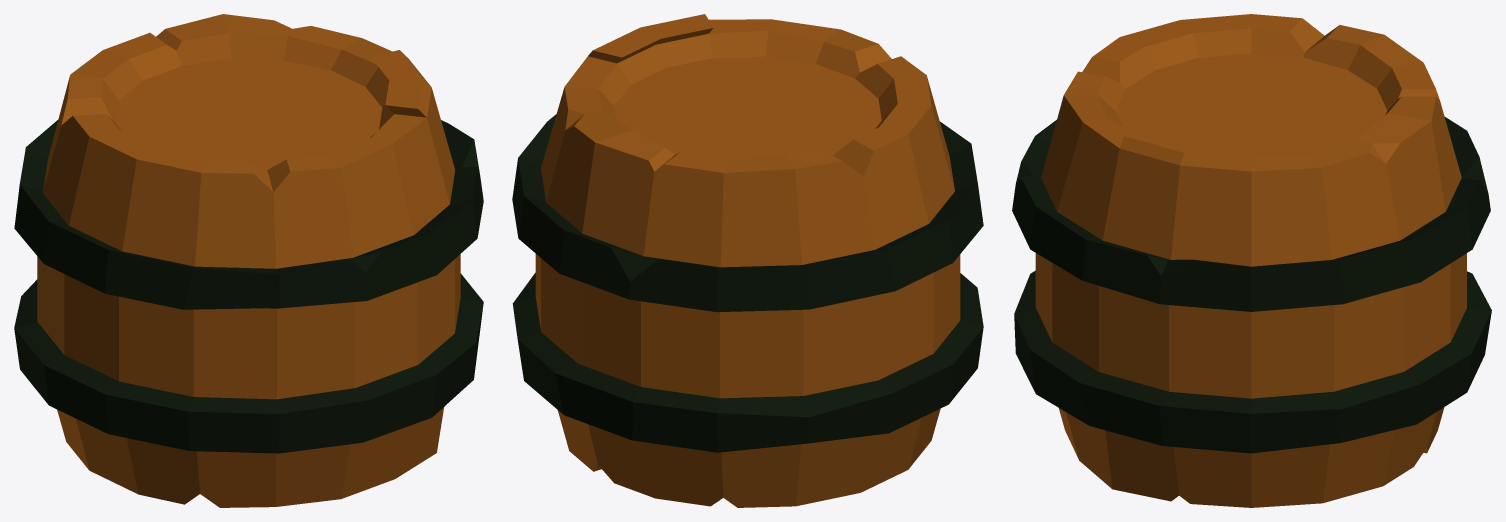
Rendered from Barrel1.fbx.
3 views of the same model, side by side, from view 1: azimuth 30°, elevation 25°; view 2: azimuth 150°, elevation 25°; view 3: azimuth 270°, elevation 25° (orthographic).
Parts seen in each view (by area): view 1: Barrel1; view 2: Barrel1; view 3: Barrel1.
Part boxes in pixels (x1,y1,x2,y2): Barrel1: [14, 14, 483, 507]; Barrel1: [512, 14, 983, 507]; Barrel1: [1012, 14, 1491, 507].
Size of the model in its own units: 71.91 by 57.58 by 72.07.
